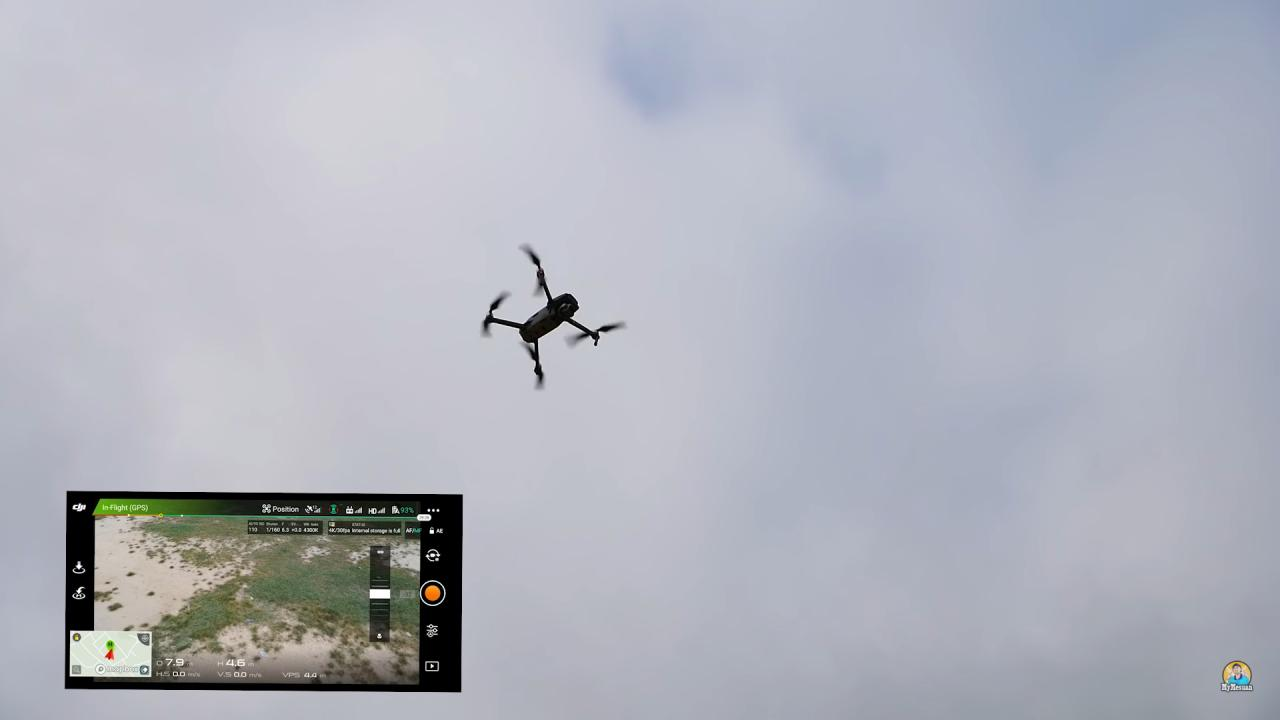Drone: (468, 230, 638, 400)
